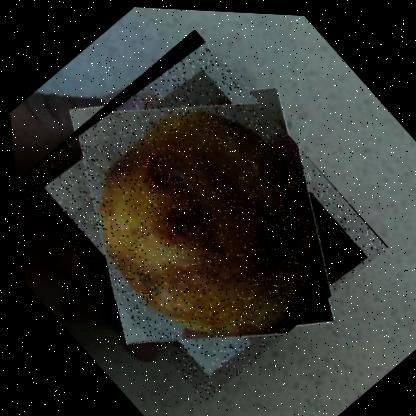guava_rotten: (1, 18, 397, 409)
